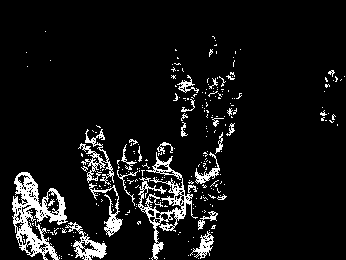person: (82, 123, 123, 241), (147, 142, 187, 254), (45, 187, 106, 260), (188, 149, 227, 256), (12, 171, 52, 260), (116, 137, 150, 232)
